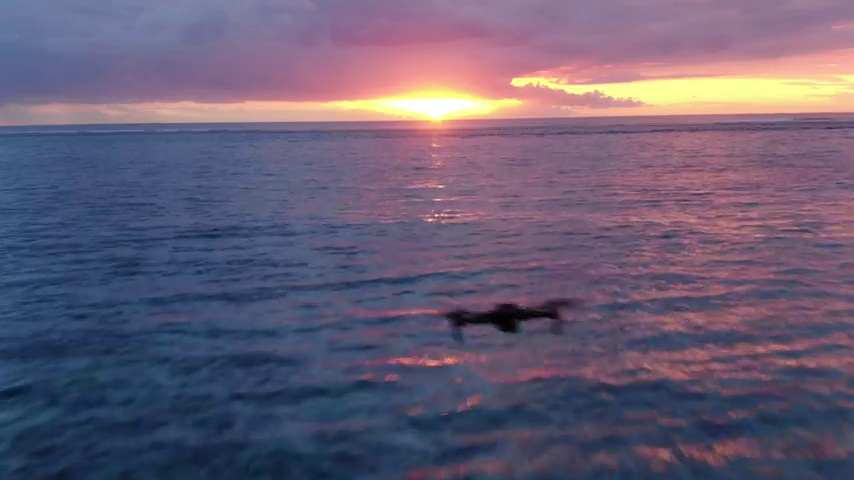drone: (443, 297, 585, 336)
